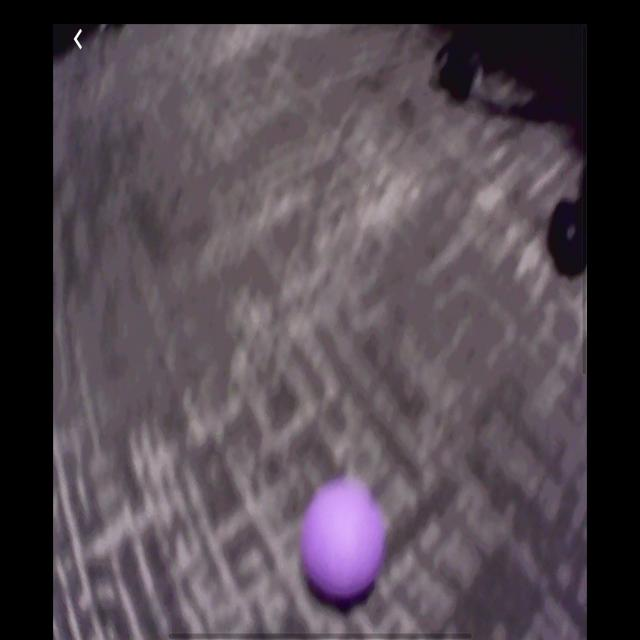ball: (300, 475, 388, 610)
